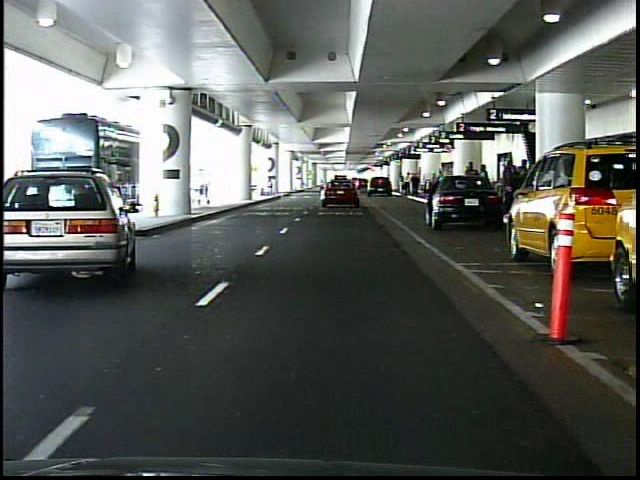person: (498, 159, 519, 215), (464, 159, 479, 208), (477, 162, 491, 209), (403, 171, 412, 197), (411, 173, 420, 198), (398, 175, 405, 192)
